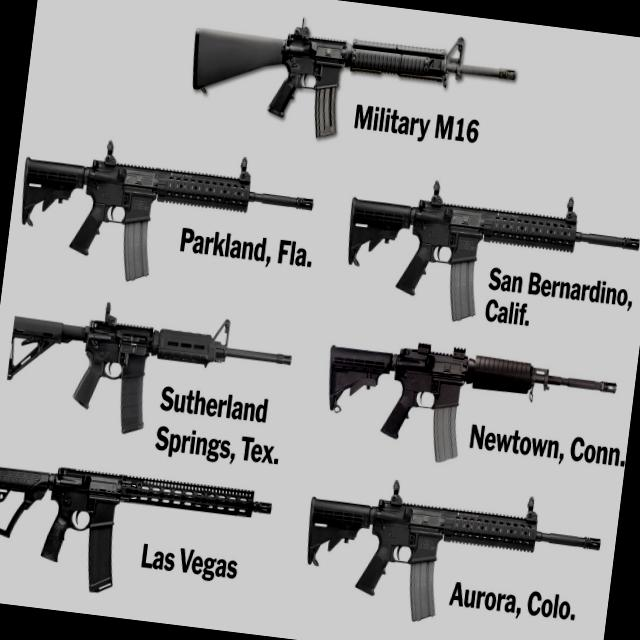long weapon: (178, 0, 539, 162), (290, 469, 606, 632), (7, 136, 325, 296), (336, 162, 639, 329), (0, 425, 275, 609), (0, 284, 299, 449), (316, 308, 608, 462)
